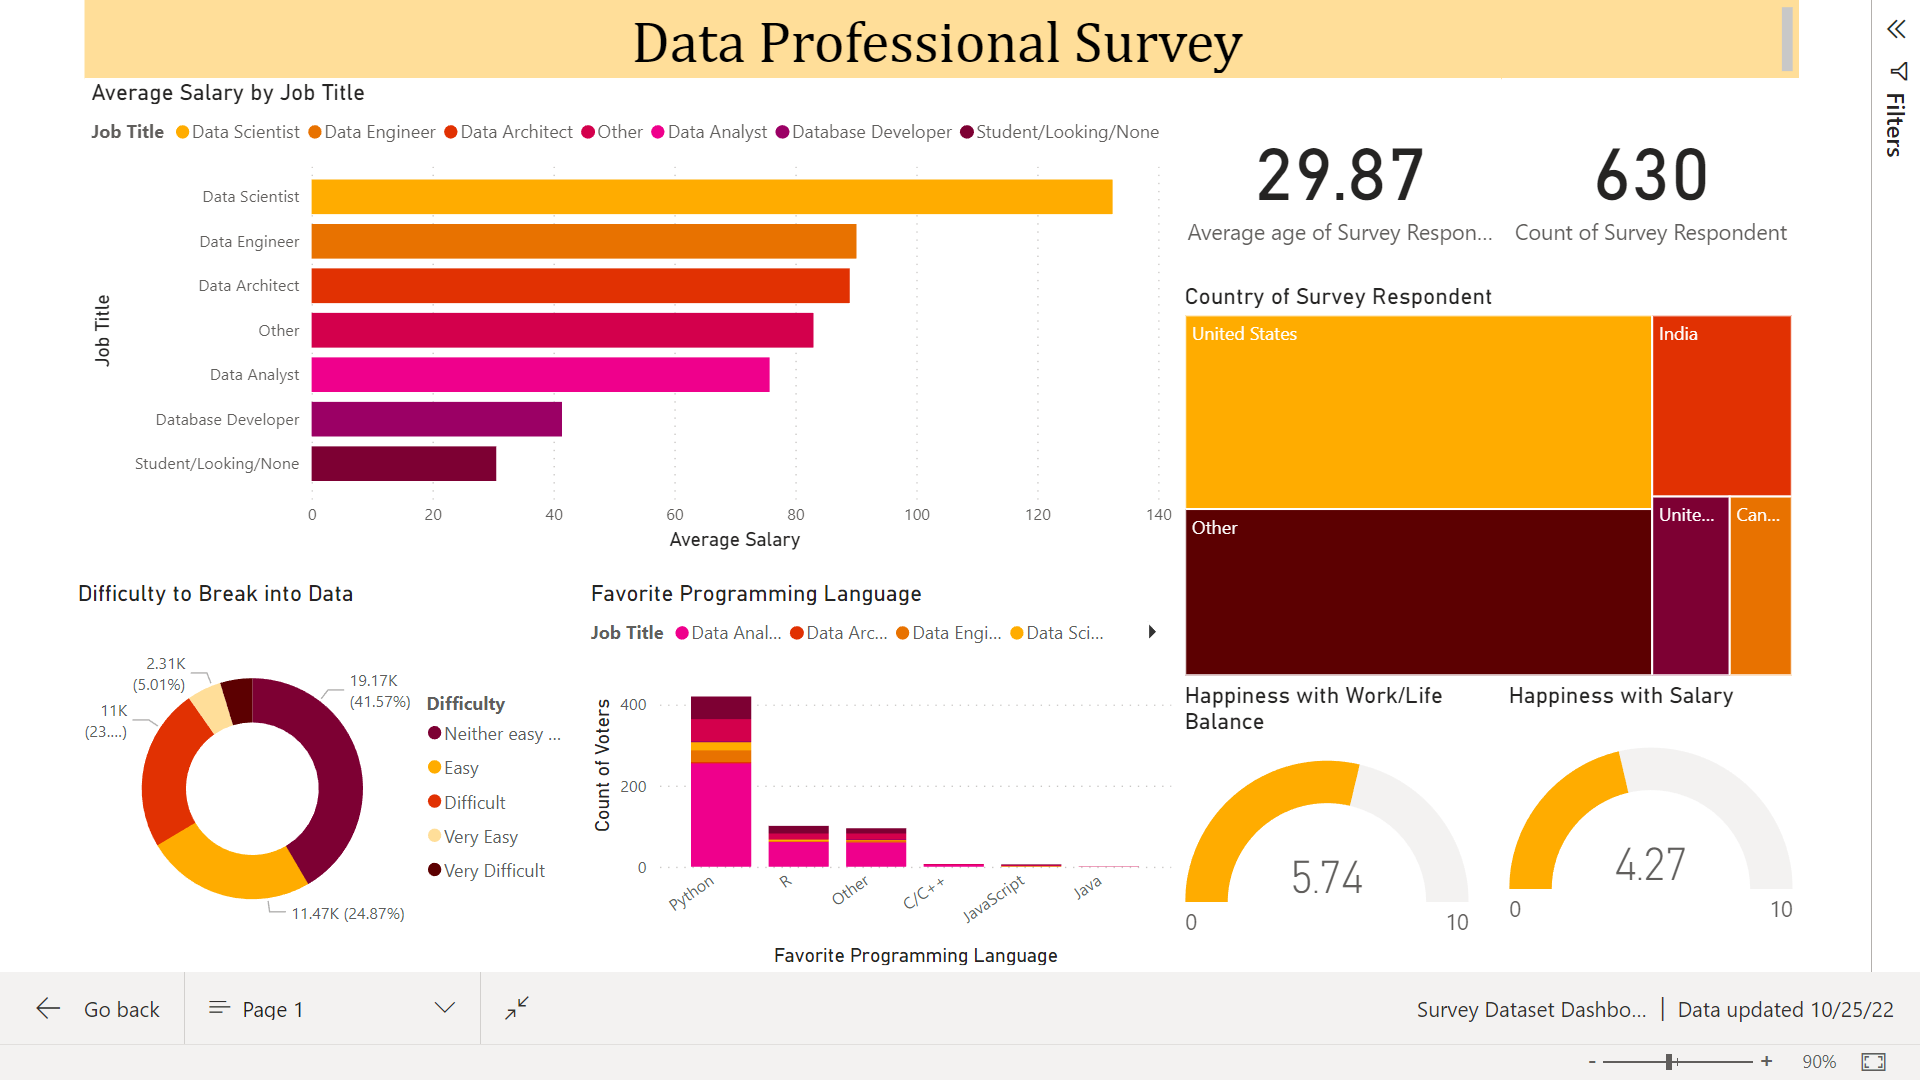

This screenshot's page, from the dashboard's own definition file:
{"tool":"powerbi","page":{"name":"Page 1","canvas":[1280,720],"ordinal":0},"visuals":[{"type":"textbox","box":[9.5,0,1270.5,58.7],"z":0},{"type":"card","fields":{"Values":["CountNonNull(Data Professional Survey.Unique ID)"]},"box":[1059.8,58.2,220,150.5],"z":1},{"type":"card","fields":{"Values":["Avg(Data Professional Survey.Q10 - Current Age)"]},"box":[820.3,58.2,239.5,150.5],"z":2},{"type":"barChart","title":"Average Salary by Job Title","fields":{"Category":["Data Professional Survey.Q1 - Which Title Best Fits your Current Role?"],"Y":["Avg(Data Professional Survey.Average Salary)"],"Series":["Data Professional Survey.Q1 - Which Title Best Fits your Current Role?"]},"box":[9.7,58.2,810.6,354.3],"z":3},{"type":"columnChart","title":"Favorite Programming Language","fields":{"Category":["Data Professional Survey.Q5 - Favorite Programming Language"],"Y":["CountNonNull(Data Professional Survey.Unique ID)"],"Series":["Data Professional Survey.Q1 - Which Title Best Fits your Current Role?"]},"box":[380.2,428.8,440.1,291.2],"z":4},{"type":"treemap","title":"Country of Survey Respondent","fields":{"Group":["Data Professional Survey.Q11 - Which Country do you live in?"],"Values":["CountNonNull(Data Professional Survey.Q11 - Which Country do you live in?)"]},"box":[820.3,208.7,459.5,296.1],"z":5},{"type":"gauge","title":"Happiness with Work/Life Balance","fields":{"Y":["Avg(Data Professional Survey.Q6 - How Happy are you in your Current Position with the following? (Work/Life Balance))"],"MinValue":["Min(Data Professional Survey.Q6 - How Happy are you in your Current Position with the following? (Work/Life Balance))1"],"MaxValue":["Max(Data Professional Survey.Q6 - How Happy are you in your Current Position with the following? (Work/Life Balance))2"]},"box":[820.3,504.8,220,215.2],"z":6},{"type":"gauge","title":"Happiness with Salary","fields":{"Y":["Avg(Data Professional Survey.Q6 - How Happy are you in your Current Position with the following? (Salary))"],"MinValue":["Min(Data Professional Survey.Q6 - How Happy are you in your Current Position with the following? (Salary))1"],"MaxValue":["Max(Data Professional Survey.Q6 - How Happy are you in your Current Position with the following? (Salary))2"]},"box":[1059.8,504.8,220,215.2],"z":7},{"type":"donutChart","title":"Difficulty to Break into Data","fields":{"Category":["Data Professional Survey.Q7 - How difficult was it for you to break into Data?"],"Y":["Sum(Data Professional Survey.Average Salary)"]},"box":[0,428.8,380.2,291.2],"z":8}]}

Visuals, with their boxes on the page's 1280x720 design canvas (x1, y1, x2, y2). These are canvas units, not pixel positions in the 1920x1080 screenshot, which may show the page scaled, cropped or inside an application window:
textbox: box=[10, 0, 1280, 59]
card - CountNonNull(Data Professional Survey.Unique ID): box=[1060, 58, 1280, 209]
card - Avg(Data Professional Survey.Q10 - Current Age): box=[820, 58, 1060, 209]
"Average Salary by Job Title" barChart: box=[10, 58, 820, 412]
"Favorite Programming Language" columnChart: box=[380, 429, 820, 720]
"Country of Survey Respondent" treemap: box=[820, 209, 1280, 505]
"Happiness with Work/Life Balance" gauge: box=[820, 505, 1040, 720]
"Happiness with Salary" gauge: box=[1060, 505, 1280, 720]
"Difficulty to Break into Data" donutChart: box=[0, 429, 380, 720]
